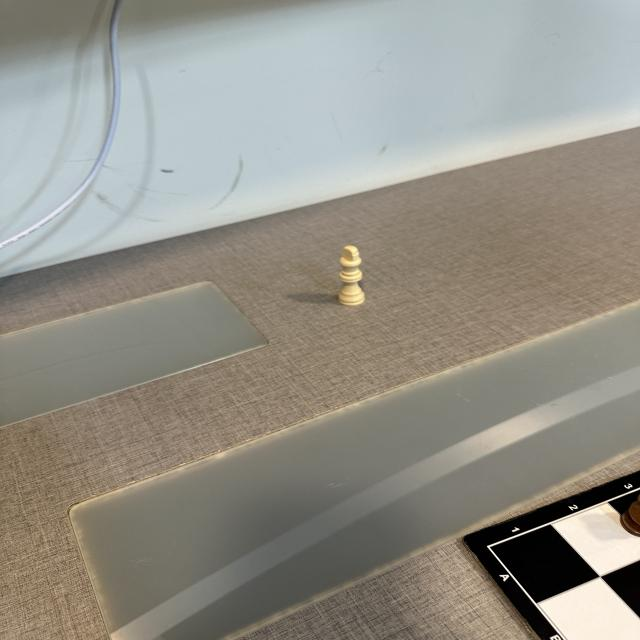White-King: (338, 245, 365, 307)
